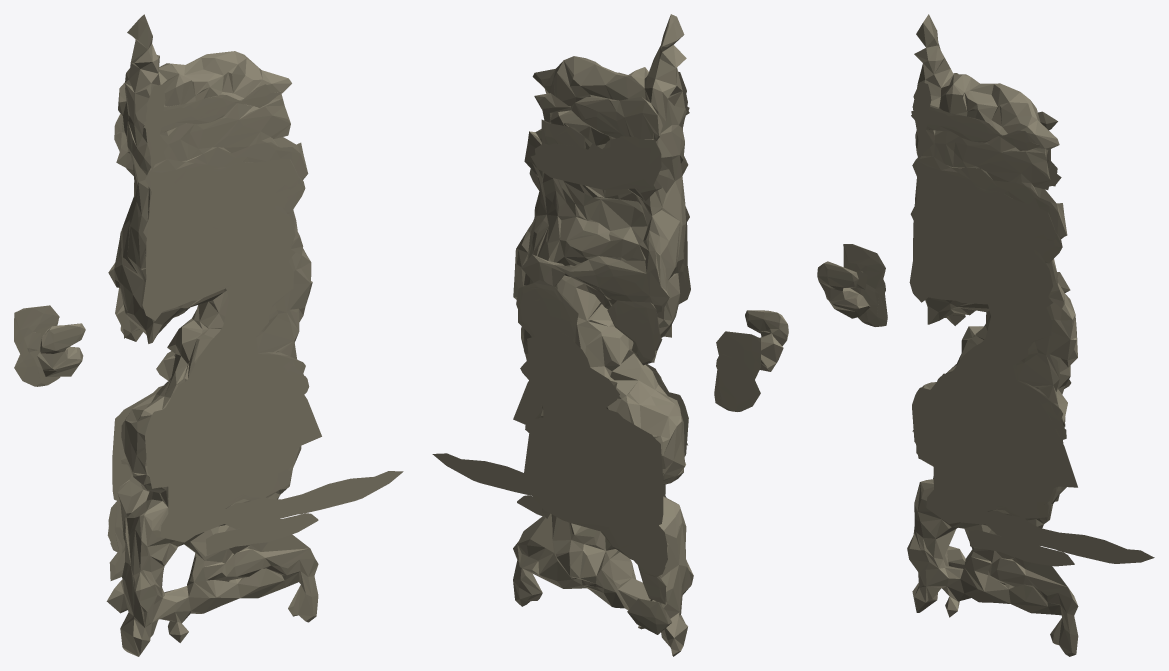
Rendered from improved.glb.
3 views of the same model, side by side, from view 1: azimuth 30°, elevation 25°; view 2: azimuth 150°, elevation 25°; view 3: azimuth 330°, elevation 25° (orthographic). The views are drawn at different scales.
Visible parts, largest first — view 1: world; view 2: world; view 3: world.
Part boxes in pixels (x1,y1,x2,y2): world: [14, 14, 403, 656]; world: [432, 14, 788, 656]; world: [817, 14, 1154, 656].
Bounding box in the file's own units: 1.2 × 2.04 × 0.1675.
